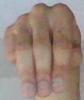M: (2, 1, 84, 100)
